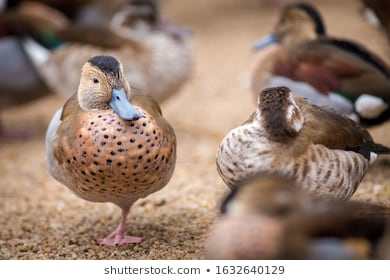duck: (36, 41, 185, 254)
